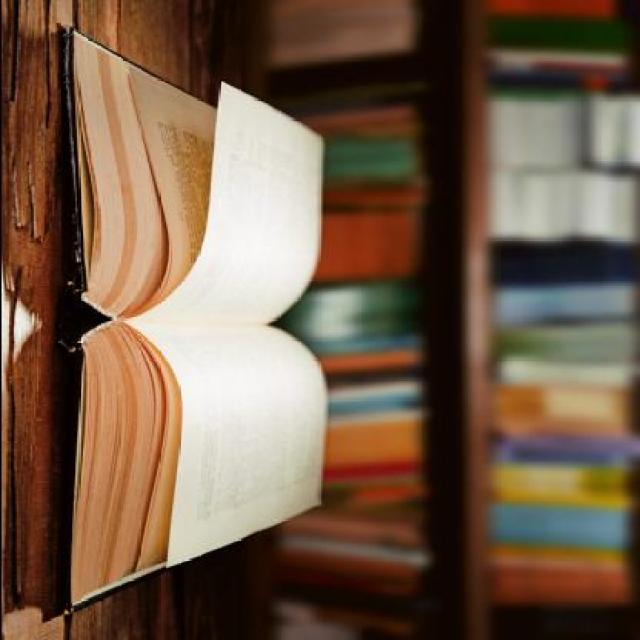book: (17, 0, 414, 640)
